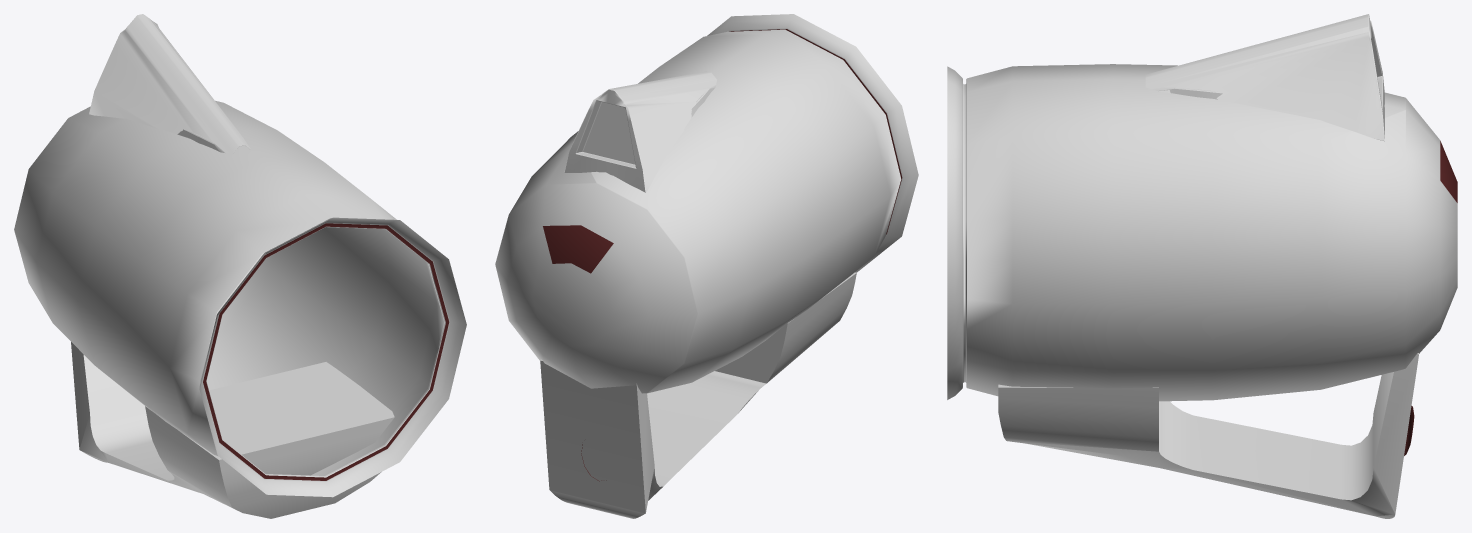
3 views of the same model, side by side, from view 1: azimuth 30°, elevation 25°; view 2: azimuth 150°, elevation 25°; view 3: azimuth 270°, elevation 25° (orthographic). The views are drawn at different scales.
Parts seen in each view (by area): view 1: Circle; view 2: Circle; view 3: Circle.
Boxes of the visible parts, x1,y1,x2,y2 form: Circle: [14, 14, 466, 518]; Circle: [495, 14, 918, 518]; Circle: [947, 14, 1457, 518].
Bounding box in the file's own units: 15.19 × 23.9 × 22.83.
